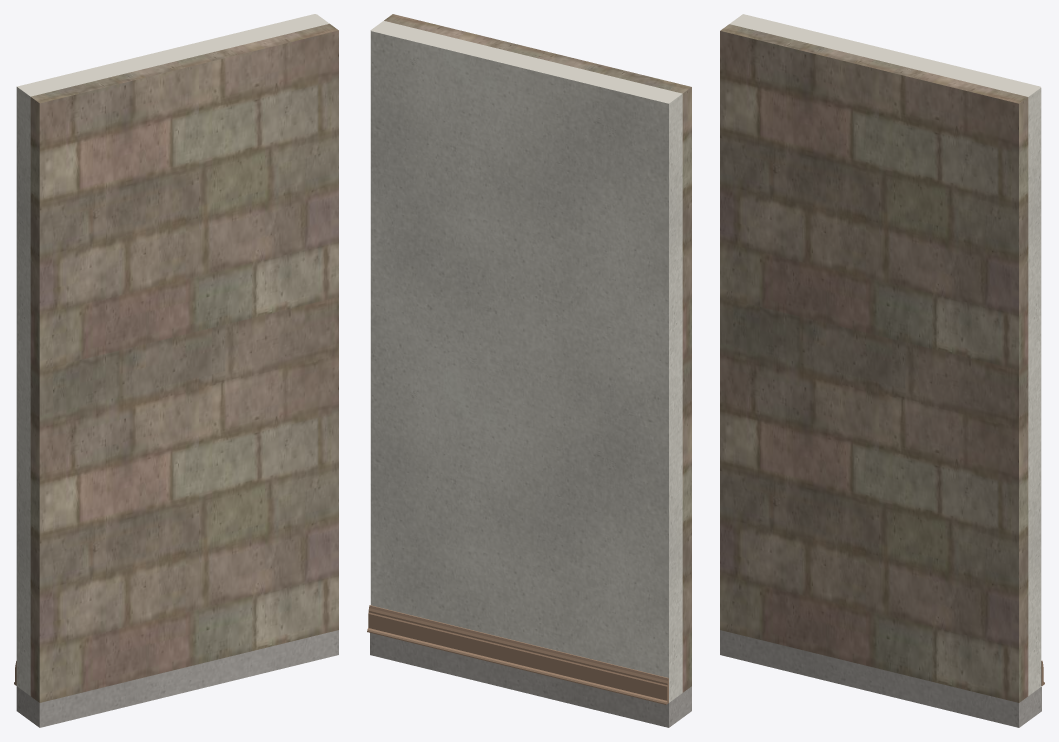
File: s_plain_fa.glb
3 renders of one model, left to right at view 1: azimuth 30°, elevation 25°; view 2: azimuth 150°, elevation 25°; view 3: azimuth 330°, elevation 25°, orthographic.
Visible parts, largest first — view 1: s_plain_fa_fstone, s_plain_fa_plaster, s_plain_fa_concrete; view 2: s_plain_fa_plaster, s_plain_fa_fstone, molduras, s_plain_fa_concrete; view 3: s_plain_fa_fstone, s_plain_fa_plaster, s_plain_fa_concrete.
Boxes of the visible parts, bbox=[...] form: s_plain_fa_fstone: bbox=[30, 23, 338, 702]; s_plain_fa_plaster: bbox=[16, 14, 329, 695]; s_plain_fa_concrete: bbox=[16, 630, 338, 727]; s_plain_fa_plaster: bbox=[370, 21, 682, 702]; s_plain_fa_fstone: bbox=[384, 14, 691, 692]; molduras: bbox=[367, 605, 668, 704]; s_plain_fa_concrete: bbox=[370, 633, 691, 727]; s_plain_fa_fstone: bbox=[720, 24, 1028, 702]; s_plain_fa_plaster: bbox=[730, 14, 1041, 695]; s_plain_fa_concrete: bbox=[720, 630, 1041, 727].
Bounding box in the file's own units: 1.88 × 3.75 × 0.28.
4 materials, 3 textured.
